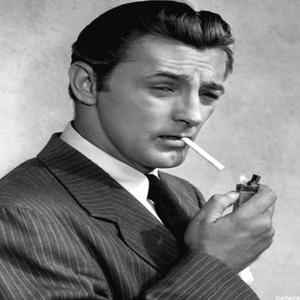cigarette: (183, 137, 226, 172)
